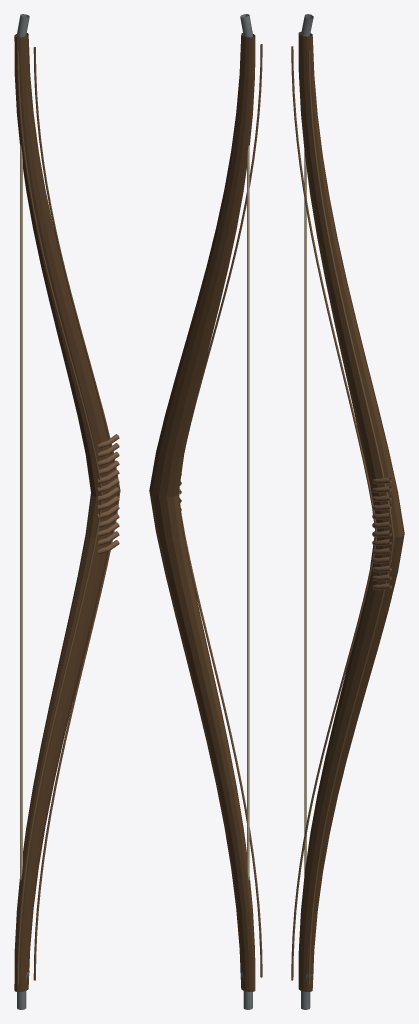
File: period_bow.glb
3 views of the same model, side by side, from view 1: azimuth 30°, elevation 25°; view 2: azimuth 150°, elevation 25°; view 3: azimuth 330°, elevation 25° (orthographic).
Visible parts, largest first — view 1: Tapered bent wooden bow stave, Laminated bow limb grain, Laminated bow limb grain.001, Taut natural cord; view 2: Tapered bent wooden bow stave, Laminated bow limb grain, Taut natural cord; view 3: Tapered bent wooden bow stave, Laminated bow limb grain, Laminated bow limb grain.001, Taut natural cord.
Boxes of the visible parts, bbox=[...] form: Tapered bent wooden bow stave: bbox=[14, 33, 120, 991]; Laminated bow limb grain: bbox=[17, 51, 102, 984]; Laminated bow limb grain.001: bbox=[33, 47, 119, 980]; Taut natural cord: bbox=[20, 145, 22, 880]; Tapered bent wooden bow stave: bbox=[149, 33, 255, 991]; Laminated bow limb grain: bbox=[182, 44, 262, 977]; Taut natural cord: bbox=[247, 145, 249, 880]; Tapered bent wooden bow stave: bbox=[298, 32, 404, 991]; Laminated bow limb grain: bbox=[291, 46, 377, 980]; Laminated bow limb grain.001: bbox=[308, 50, 394, 984]; Taut natural cord: bbox=[304, 151, 306, 874].
Size of the model in its own units: 0.1534 by 1.35 by 0.0324.
